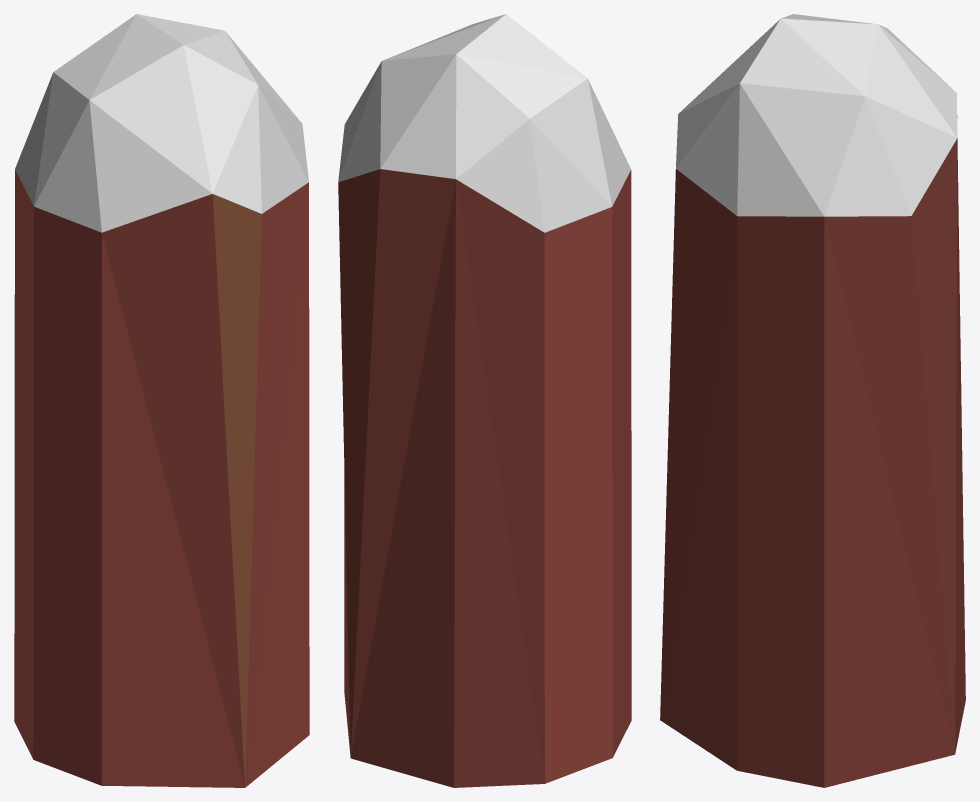
The model's file is Silo.lod4.glb.
The picture shows the model from 3 angles, left to right: view 1: azimuth 30°, elevation 25°; view 2: azimuth 150°, elevation 25°; view 3: azimuth 270°, elevation 25°; orthographic projection.
Parts seen in each view (by area): view 1: Silo; view 2: Silo; view 3: Silo.
Boxes of the visible parts, box(x1,y1,x2,y2) form: Silo: box(14, 14, 309, 787); Silo: box(338, 14, 631, 787); Silo: box(660, 14, 965, 787).
Size of the model in its own units: 3.67 by 9.12 by 3.6.
